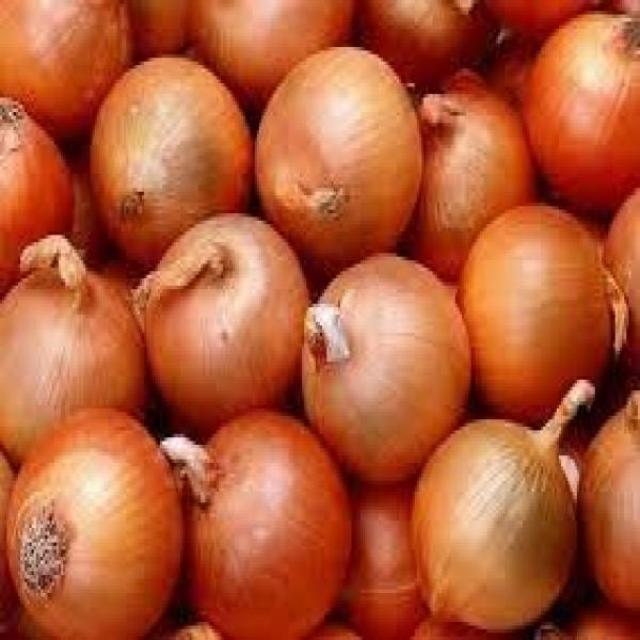Onion: (278, 272, 494, 456), (0, 424, 173, 640), (79, 29, 248, 248), (403, 415, 580, 615), (198, 401, 346, 640), (442, 190, 596, 402), (0, 258, 151, 460), (140, 230, 304, 400), (274, 55, 408, 248), (520, 30, 640, 210), (0, 0, 105, 169)
